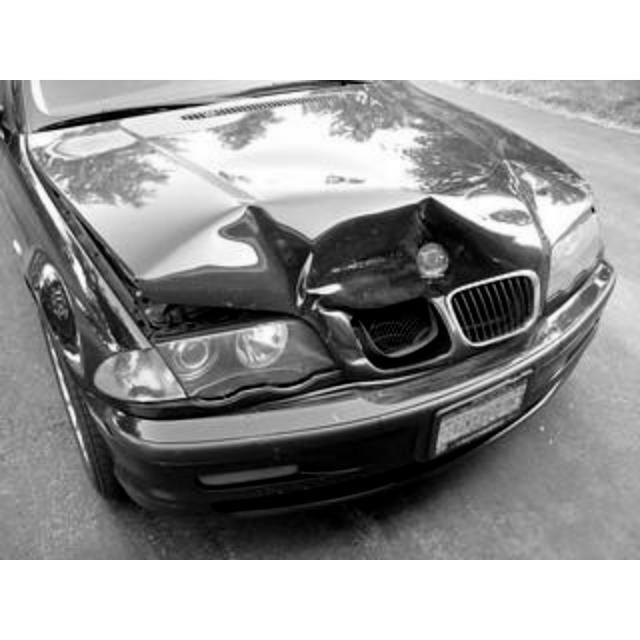bonnet-dent: (68, 128, 538, 290)
